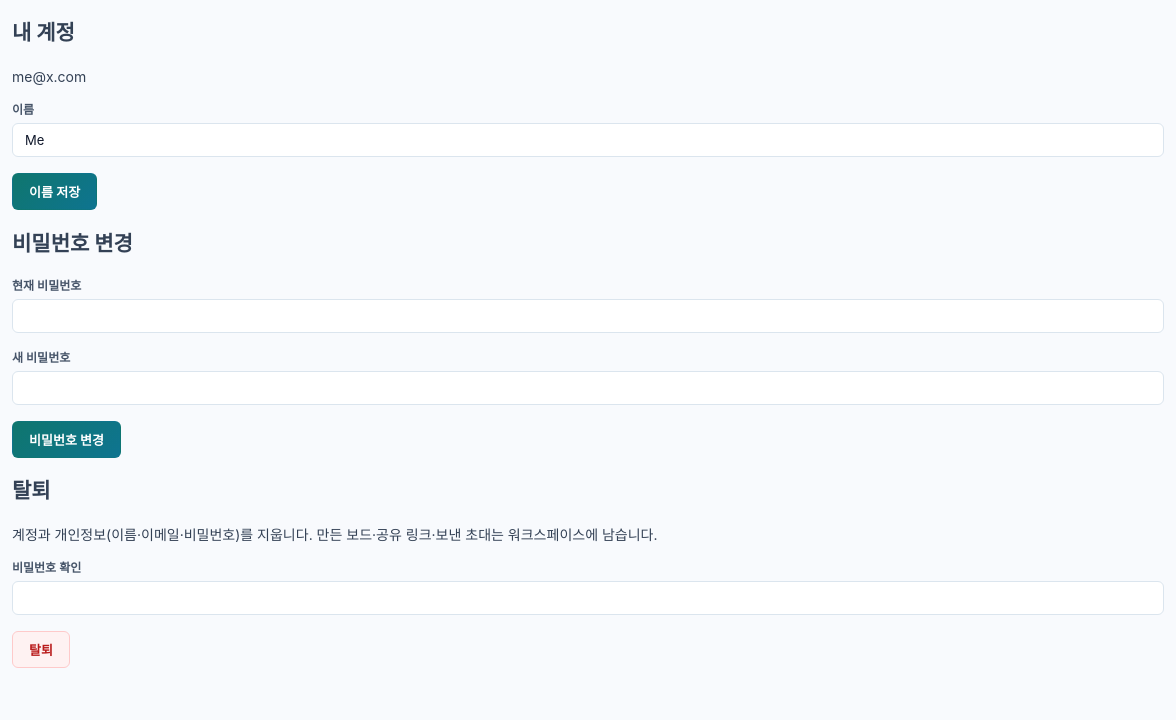
it: AccountPage › changes the password and says other sign-ins were ended
Type "old-p4ssword" into the password field labelled "현재 비밀번호".
click(588, 316); type("old-p4ssword")  # box [12, 299, 1164, 333]
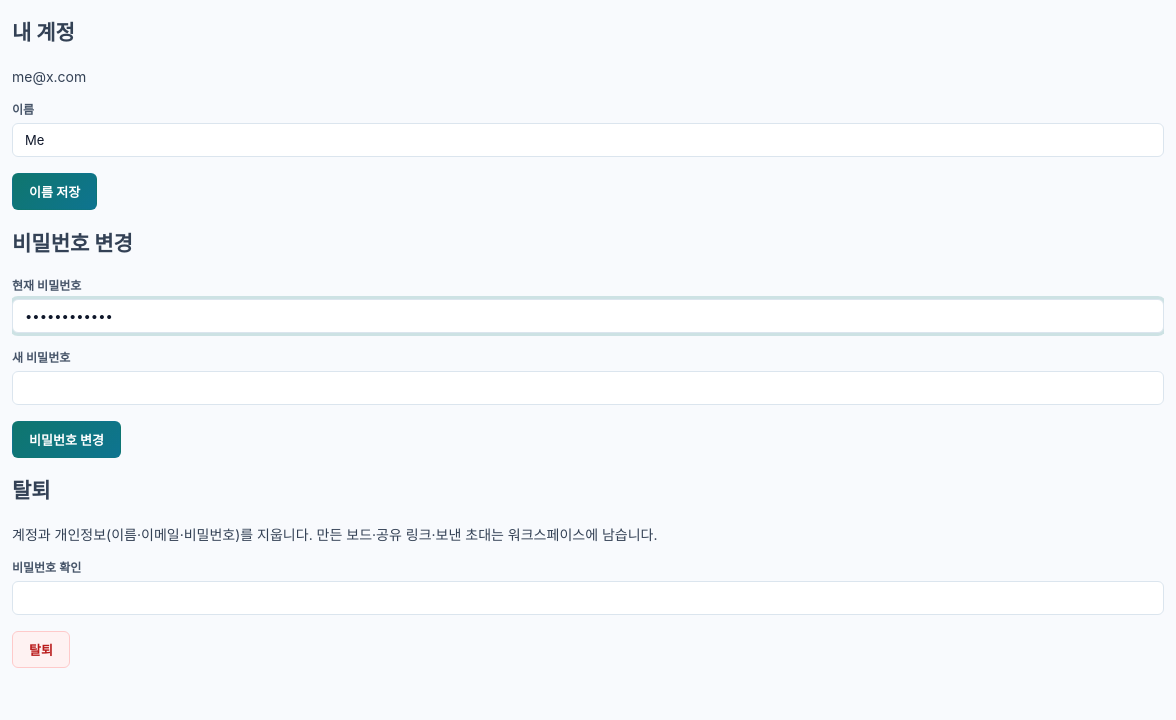
Type "new-p4ssword" into the password field labelled "새 비밀번호".
click(588, 388); type("new-p4ssword")  # box [12, 371, 1164, 405]
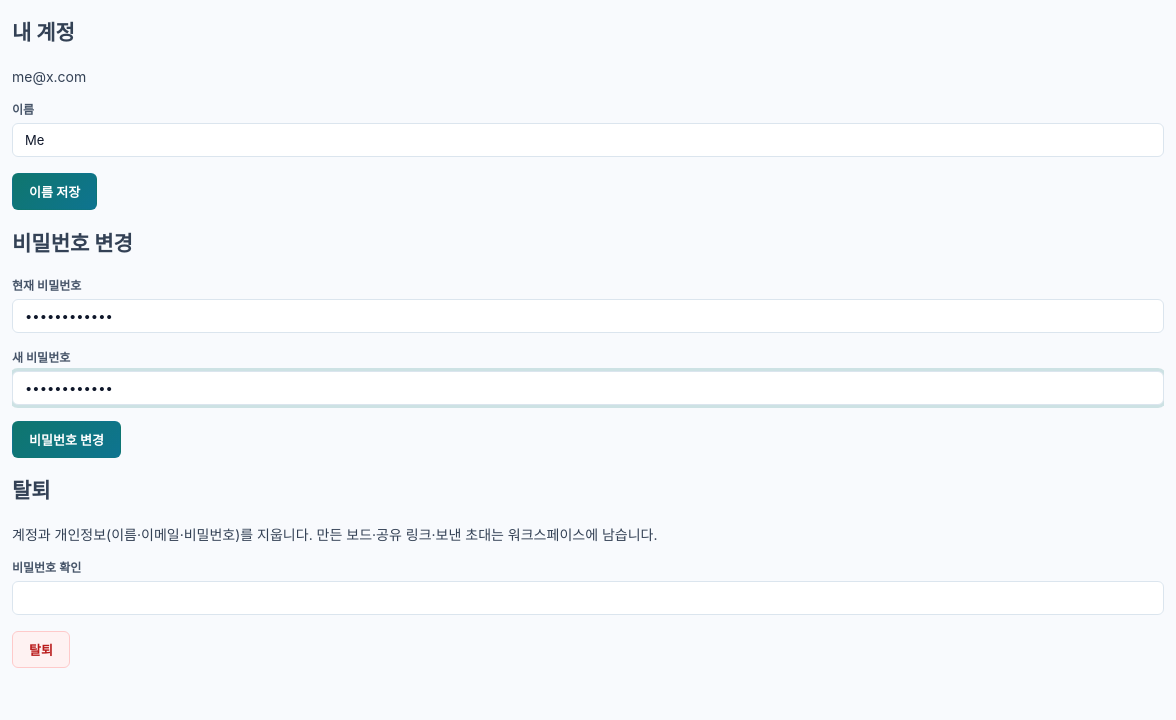
Click the button "비밀번호 변경".
click(66, 439)  # box [12, 421, 121, 458]
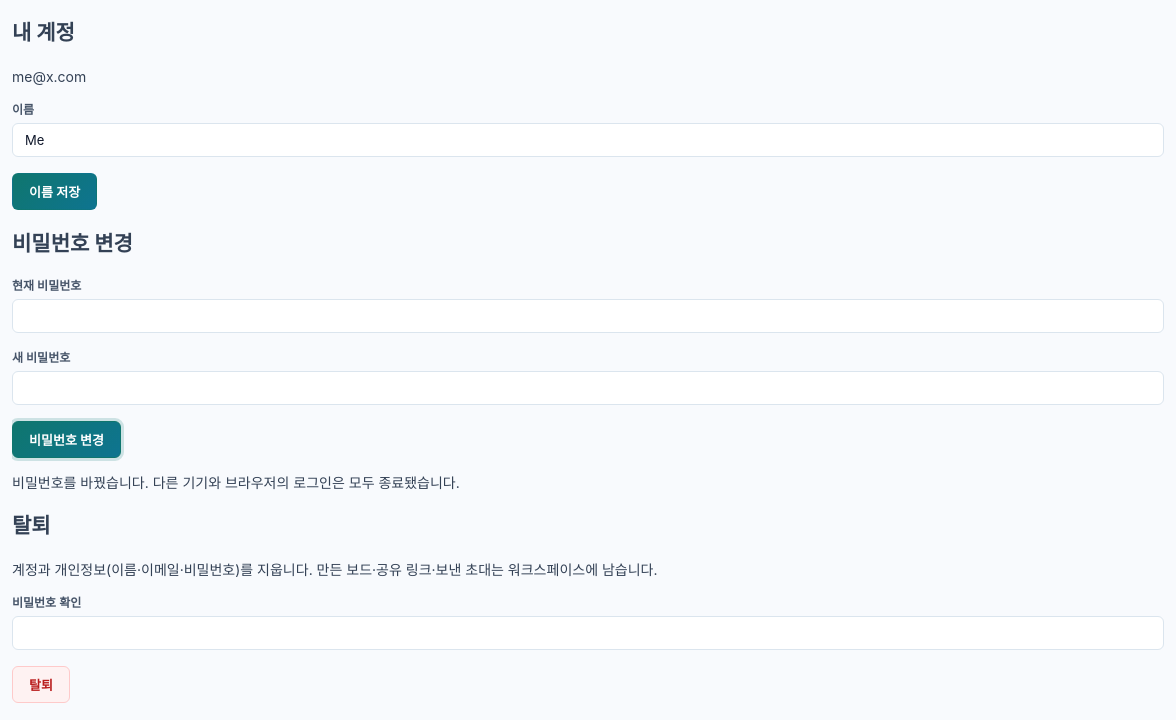
Result: the text "비밀번호를 바꿨습니다. 다른 기기와 브라우저의 로그인은 모두 종료됐습니다." is shown at [12, 474, 460, 491]
Result: the password field labelled "현재 비밀번호" is empty at [12, 299, 1164, 333]
